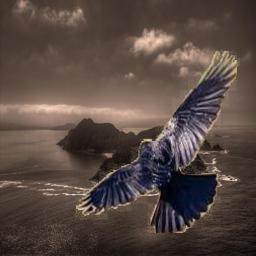Crow: (71, 42, 240, 233)
